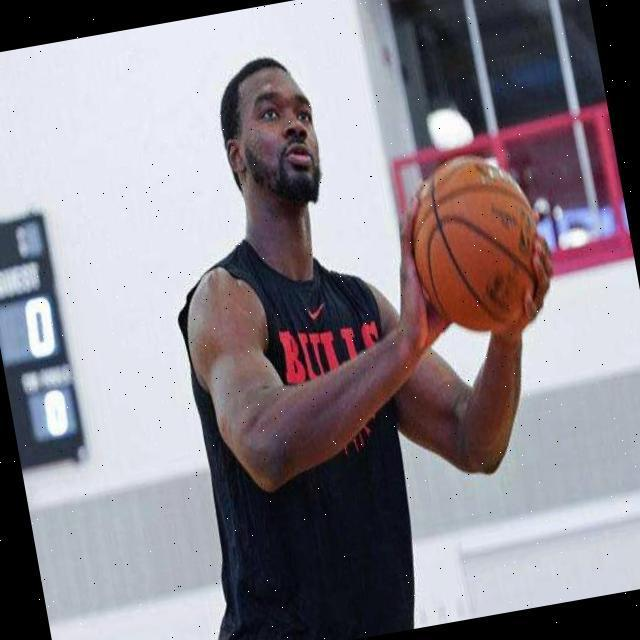ball: (400, 148, 552, 344)
